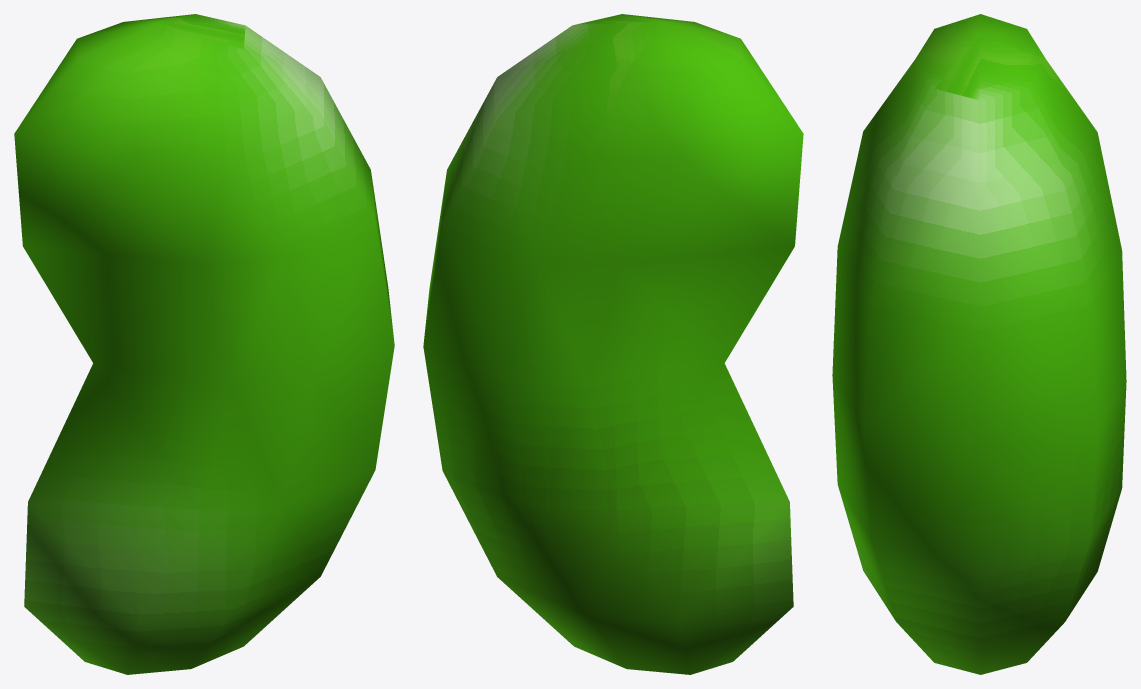
File: bean5.obj
3 views of the same model, side by side, from view 1: azimuth 30°, elevation 25°; view 2: azimuth 150°, elevation 25°; view 3: azimuth 270°, elevation 25° (orthographic). The views are drawn at different scales.
Visible parts, largest first — view 1: bean:Mesh; view 2: bean:Mesh; view 3: bean:Mesh.
Boxes of the visible parts, bbox=[...] form: bean:Mesh: bbox=[14, 14, 394, 674]; bean:Mesh: bbox=[423, 14, 803, 674]; bean:Mesh: bbox=[832, 14, 1126, 674].
Size of the model in its own units: 20.6 by 34.01 by 14.58.
